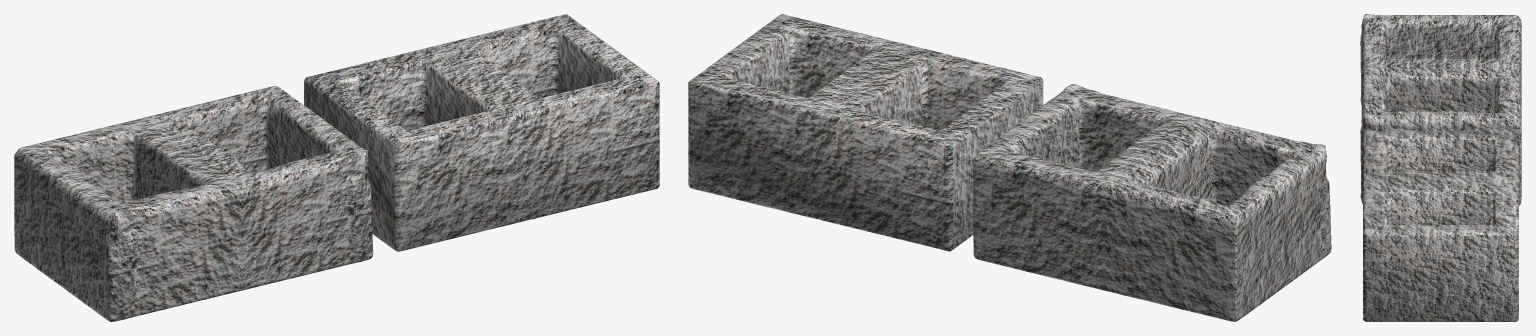
The model's file is BlockStone.FBX.
The picture shows the model from 3 angles, left to right: view 1: azimuth 30°, elevation 25°; view 2: azimuth 150°, elevation 25°; view 3: azimuth 270°, elevation 25°; orthographic projection. The views are drawn at different scales.
Parts seen in each view (by area): view 1: B S, Bs 2; view 2: B S, Bs 2; view 3: Bs 2, B S.
Part boxes in pixels (x1=…): B S: x1=14, y1=86, x2=373, y2=321; Bs 2: x1=304, y1=14, x2=659, y2=251; B S: x1=973, y1=84, x2=1331, y2=321; Bs 2: x1=688, y1=14, x2=1043, y2=251; Bs 2: x1=1363, y1=128, x2=1518, y2=321; B S: x1=1360, y1=14, x2=1521, y2=205.
Bounding box in the file's own units: 548 × 103 × 168.
Materials: 2 (2 with a texture image).
